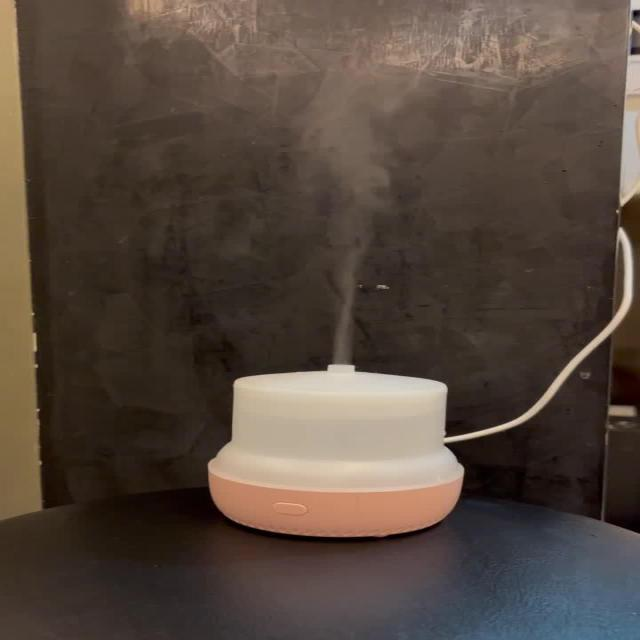fire: (300, 75, 397, 364)
